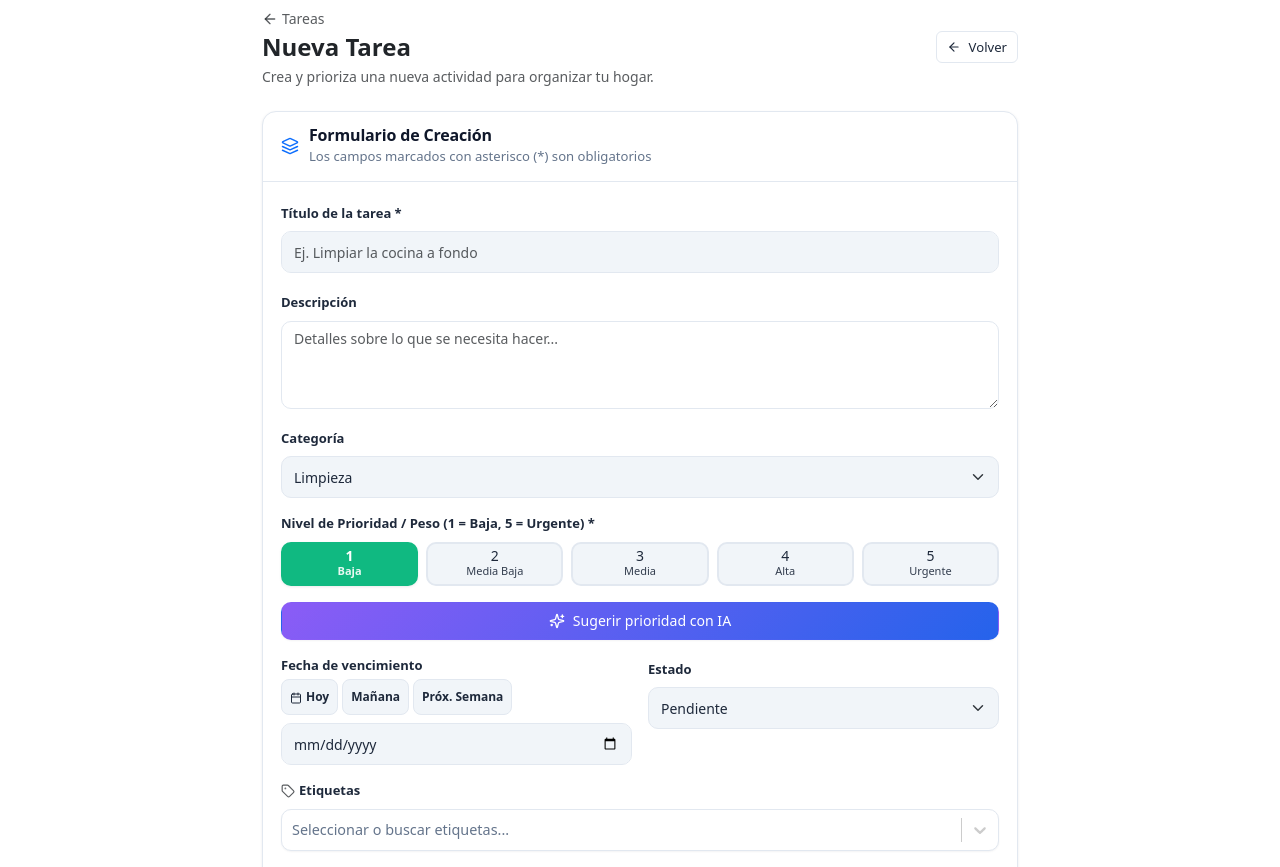
TaskForm Component › muestra la barra asistente de tokens NLP cuando se introducen tokens en el título y permite aplicarlos con el botón
Type "Comprar leche en 3 días p1 #limpieza" into the field labelled "Título de la tarea *" at (640, 252), box [281,231,999,273]
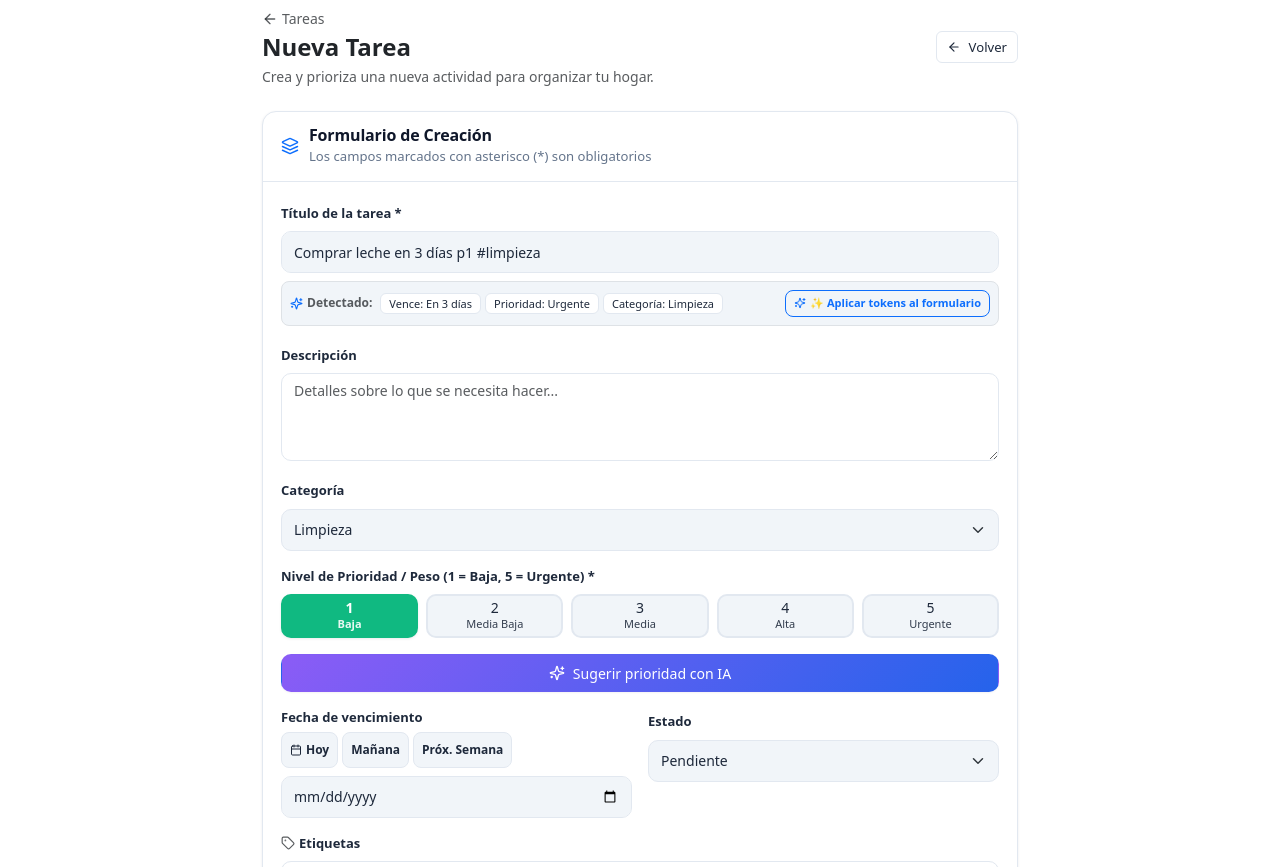
Expected: the element with test id "nlp-assistant-bar" is shown, [281,281,999,326]
Expected: the text with test id "nlp-token-badge-date" reads "Vence: En 3 días", [389,296,472,311]
Expected: the text with test id "nlp-token-badge-priority" reads "Prioridad: Urgente", [494,296,590,311]
Click the button with test id "apply-nlp-tokens-btn" at (888, 303), box [785,290,990,317]
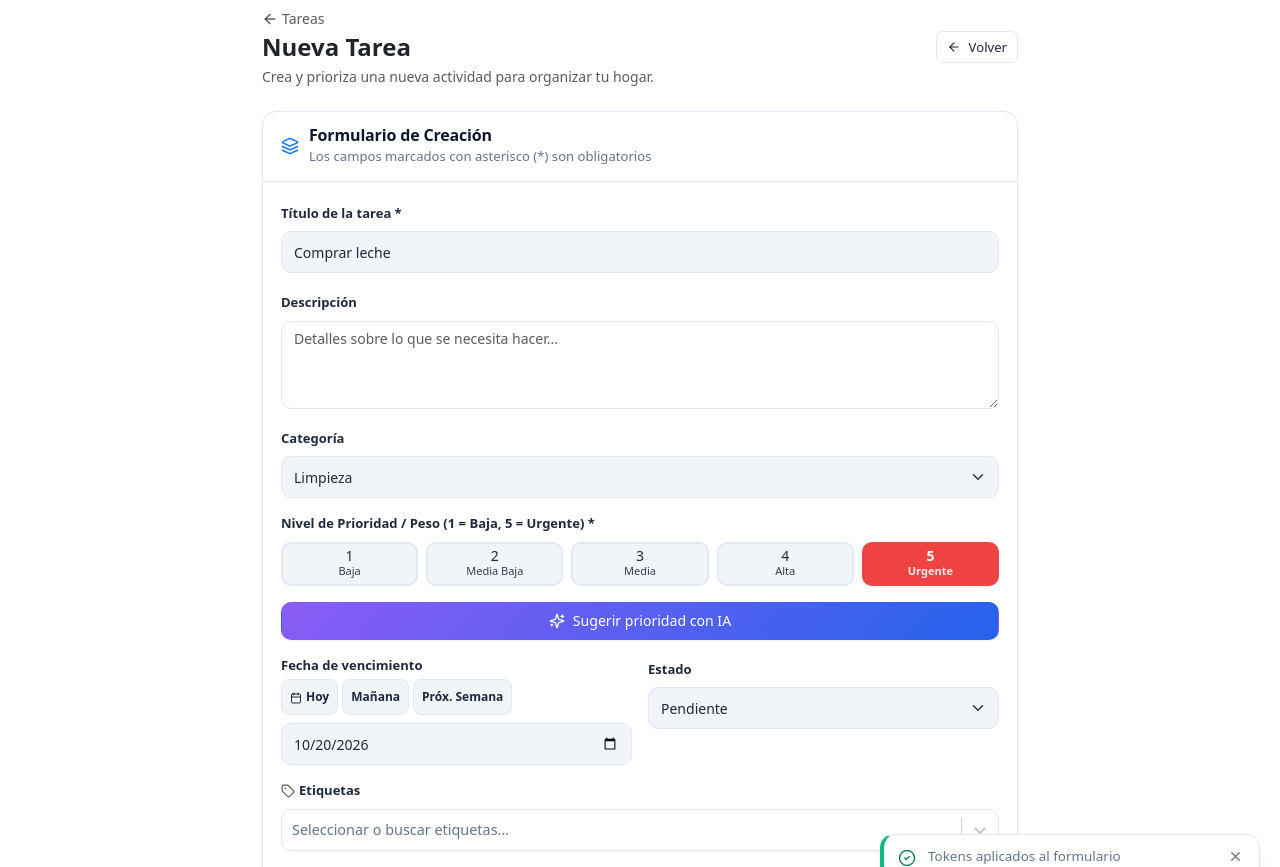
Expected: the element named "peso" holds "5", [281,514,999,586]
Expected: the field labelled "Título de la tarea *" holds "Comprar leche", [281,231,999,273]
Expected: the date field labelled "Fecha de vencimiento" is not empty, [281,723,632,765]
